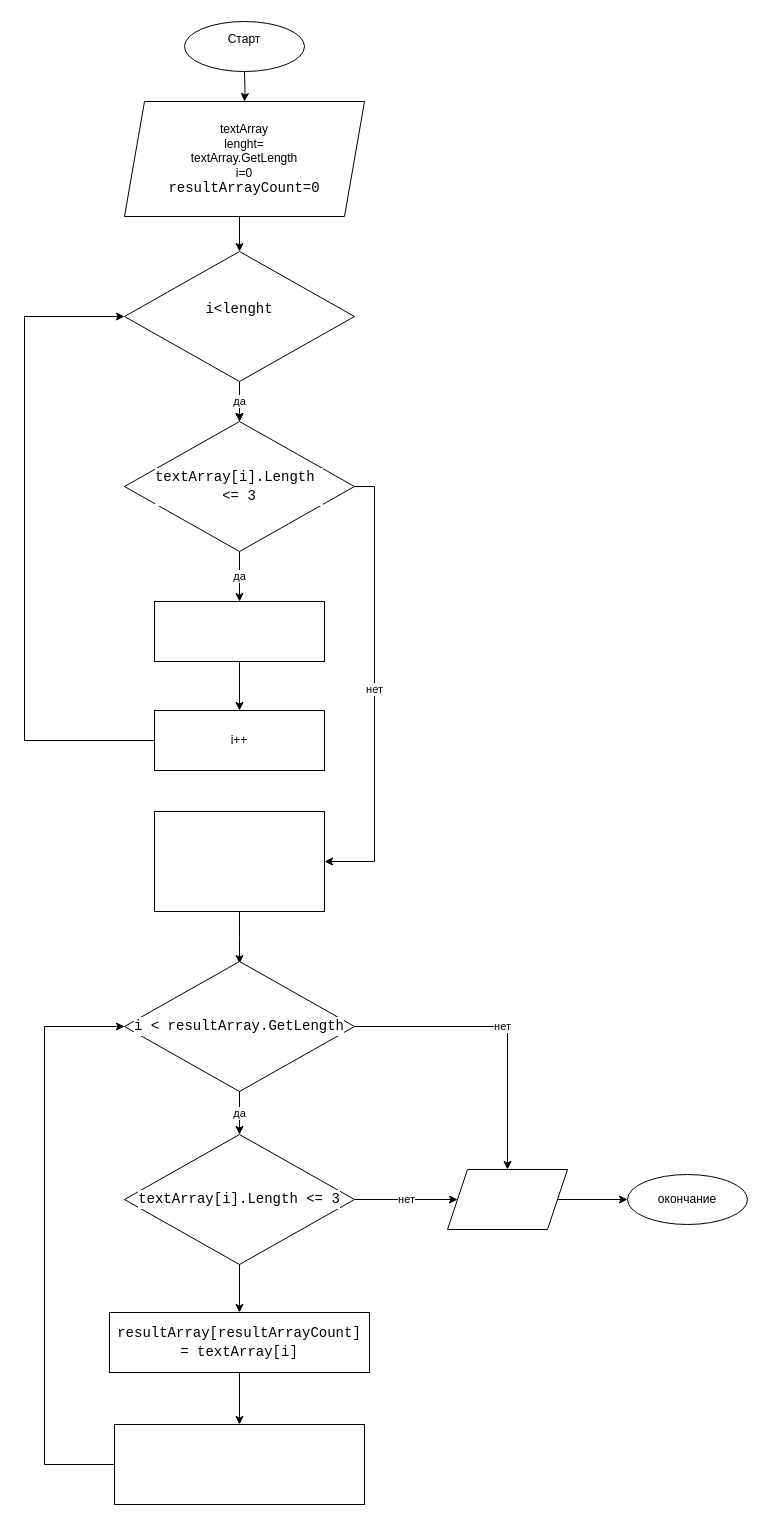
This 765x1522 diagram has some shape labels left out. The shapes that lost their labels are listed below. From the top down, each one's centre as x and y in pixels, then its label:
At pixel 239 631: "resultArrayCount =resultArrayCount+1".
At pixel 239 861: "resultArray = resultArrayCount resultArrayCount = 0 i=0".
At pixel 507 1199: "print resultArray".
At pixel 239 1464: "resultArrayCount ++ i++".
